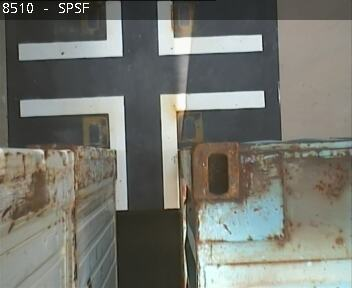groundmarker_1: (20, 89, 264, 211), (19, 1, 261, 62)
